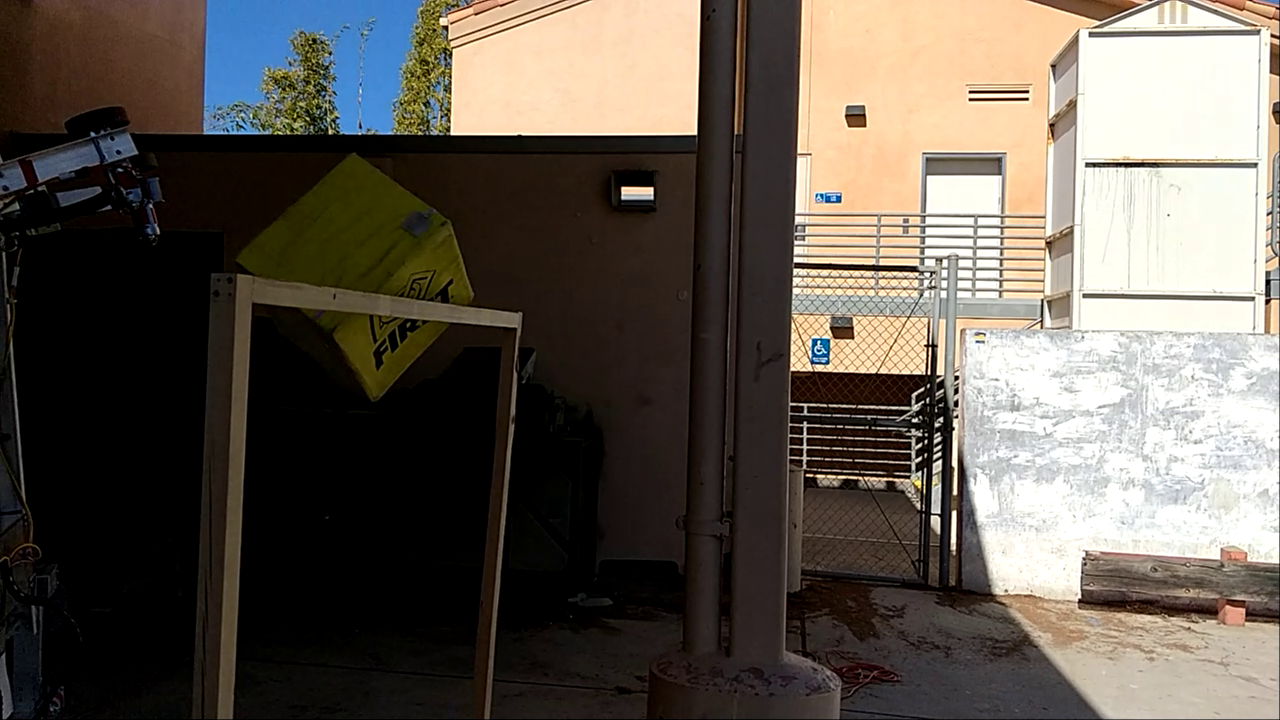cube: (233, 152, 476, 404)
